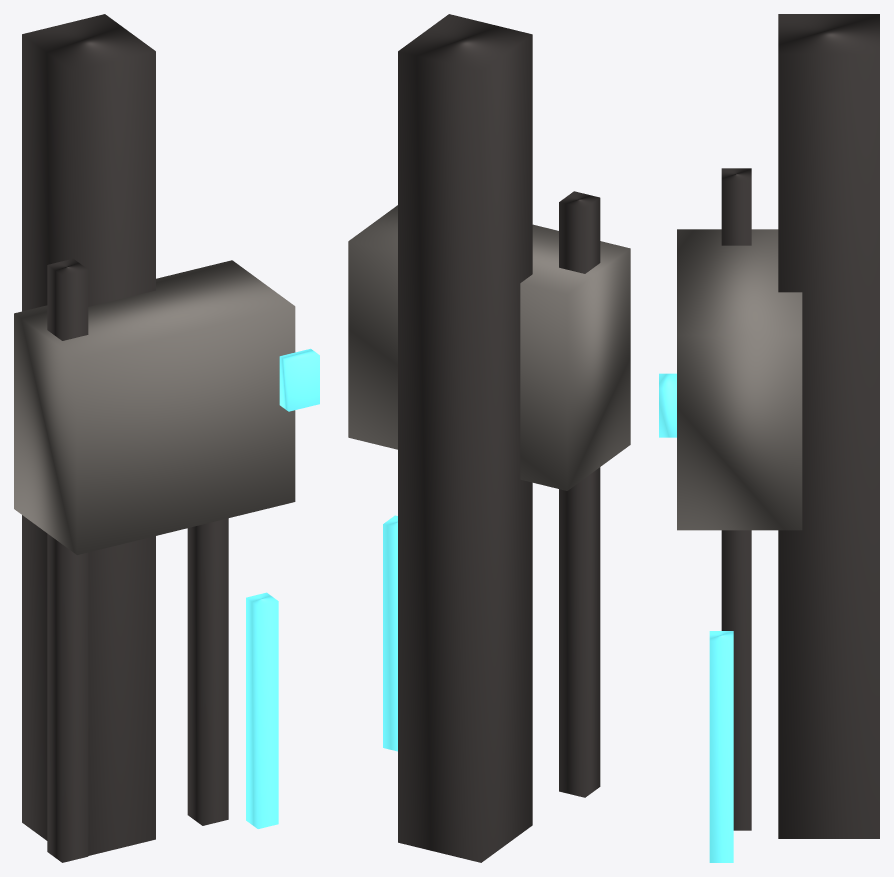
The model's file is damaged-vessel-service-bundle-lod1.glb.
3 views of the same model, side by side, from view 1: azimuth 30°, elevation 25°; view 2: azimuth 150°, elevation 25°; view 3: azimuth 270°, elevation 25° (orthographic).
Visible parts, largest first — view 1: damaged-vessel-service-bundle-junction, damaged-vessel-service-bundle-trunk, damaged-vessel-service-bundle-conduit-a, damaged-vessel-service-bundle-conduit-b, damaged-vessel-service-bundle-drop, damaged-vessel-service-bundle-status; view 2: damaged-vessel-service-bundle-trunk, damaged-vessel-service-bundle-junction, damaged-vessel-service-bundle-conduit-a, damaged-vessel-service-bundle-drop; view 3: damaged-vessel-service-bundle-trunk, damaged-vessel-service-bundle-junction, damaged-vessel-service-bundle-conduit-b, damaged-vessel-service-bundle-drop, damaged-vessel-service-bundle-conduit-a, damaged-vessel-service-bundle-status.
Boxes of the visible parts, box(x1,y1,x2,y2) form: damaged-vessel-service-bundle-junction: box(14, 260, 295, 554); damaged-vessel-service-bundle-trunk: box(22, 14, 155, 855); damaged-vessel-service-bundle-conduit-a: box(47, 258, 88, 862); damaged-vessel-service-bundle-conduit-b: box(187, 518, 228, 825); damaged-vessel-service-bundle-drop: box(246, 592, 278, 828); damaged-vessel-service-bundle-status: box(279, 348, 319, 411); damaged-vessel-service-bundle-trunk: box(398, 14, 532, 862); damaged-vessel-service-bundle-junction: box(348, 205, 630, 490); damaged-vessel-service-bundle-conduit-a: box(559, 191, 600, 797); damaged-vessel-service-bundle-drop: box(383, 515, 397, 751); damaged-vessel-service-bundle-trunk: box(778, 14, 879, 838); damaged-vessel-service-bundle-junction: box(677, 229, 802, 530); damaged-vessel-service-bundle-conduit-b: box(721, 530, 751, 830); damaged-vessel-service-bundle-drop: box(709, 631, 733, 862); damaged-vessel-service-bundle-conduit-a: box(721, 168, 751, 245); damaged-vessel-service-bundle-status: box(659, 373, 676, 437).
Size of the model in its own units: 0.9 by 2.9 by 0.74.
